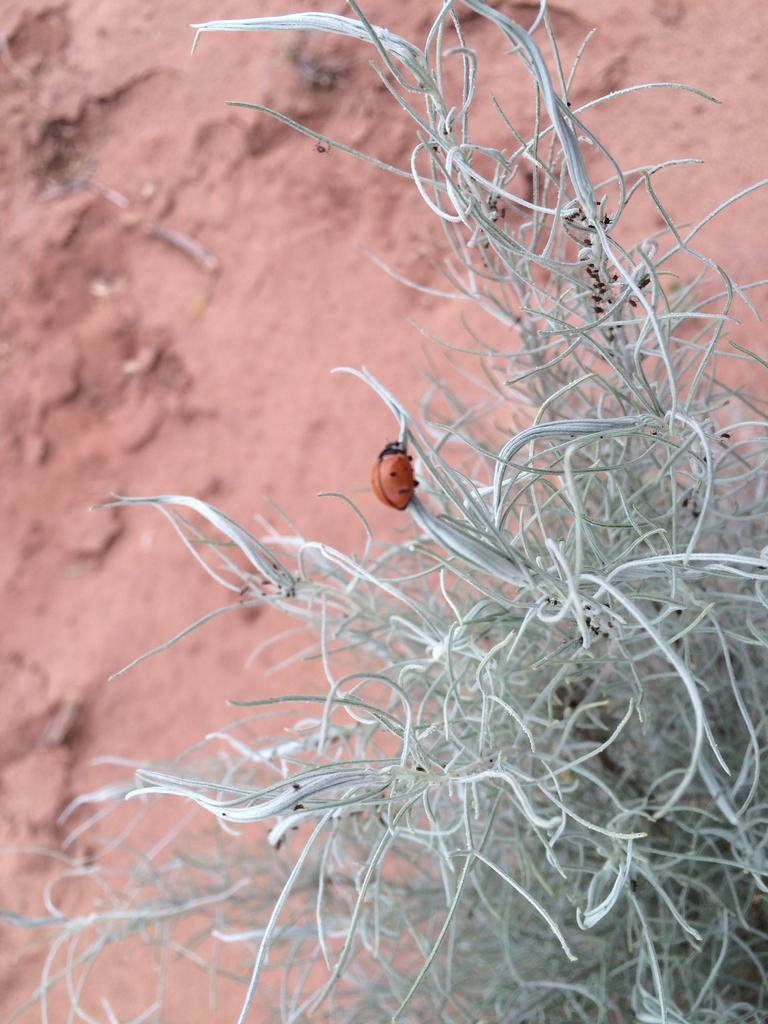ladybug: (371, 439, 426, 516)
